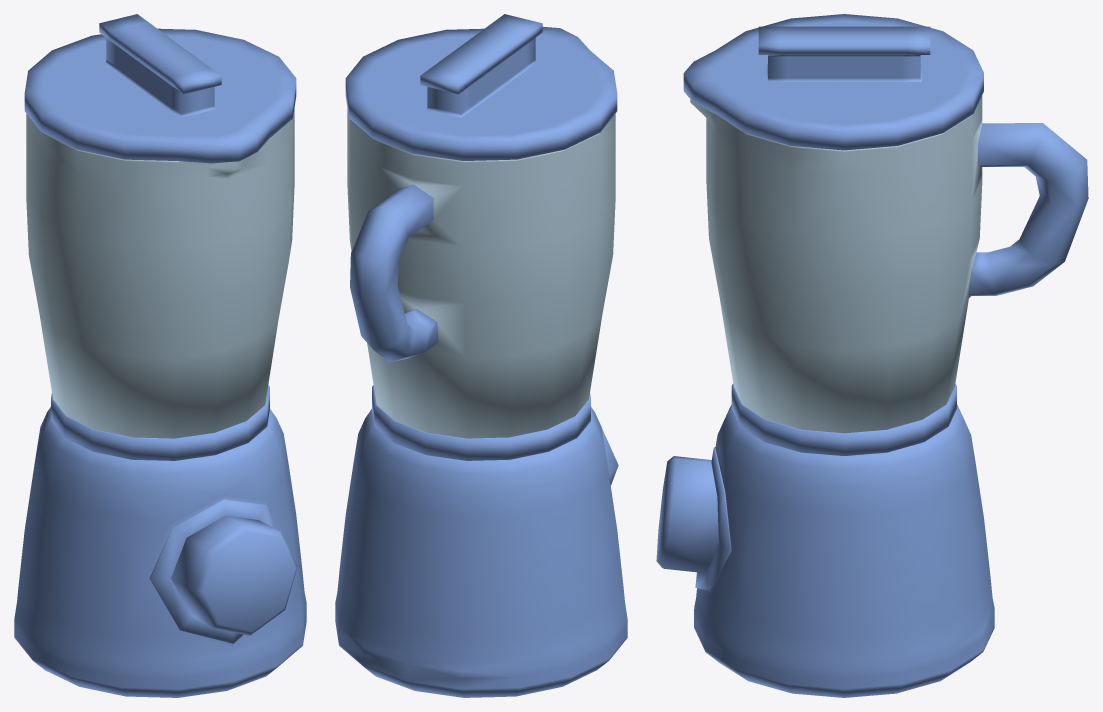
Rendered from blender.fbx.
The picture shows the model from 3 angles, left to right: view 1: azimuth 30°, elevation 25°; view 2: azimuth 150°, elevation 25°; view 3: azimuth 270°, elevation 25°; orthographic projection.
Parts seen in each view (by area): view 1: blender_main, blender_top, blender_button; view 2: blender_main, blender_top; view 3: blender_main, blender_top, blender_button.
Boxes of the visible parts, x1,y1,x2,y2 form: blender_main: (14,108,306,697); blender_top: (24,14,296,163); blender_button: (171,515,297,635); blender_main: (335,108,627,697); blender_top: (345,14,617,160); blender_main: (690,96,1088,697); blender_top: (683,14,983,150); blender_button: (656,456,718,573).
Size of the model in its own units: 59.53 by 132 by 85.51.
